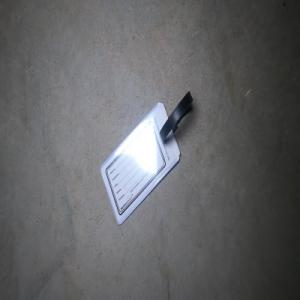LuggageTag: (98, 88, 194, 226)
